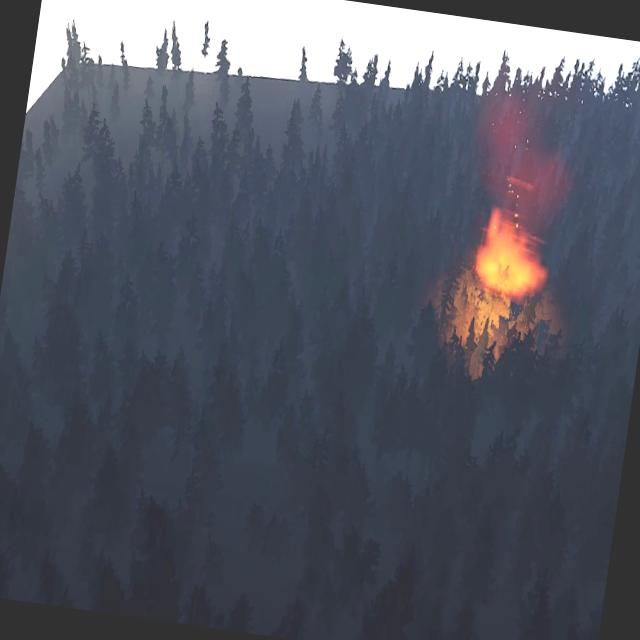fire: (474, 202, 555, 300)
smoke: (464, 90, 572, 223)
